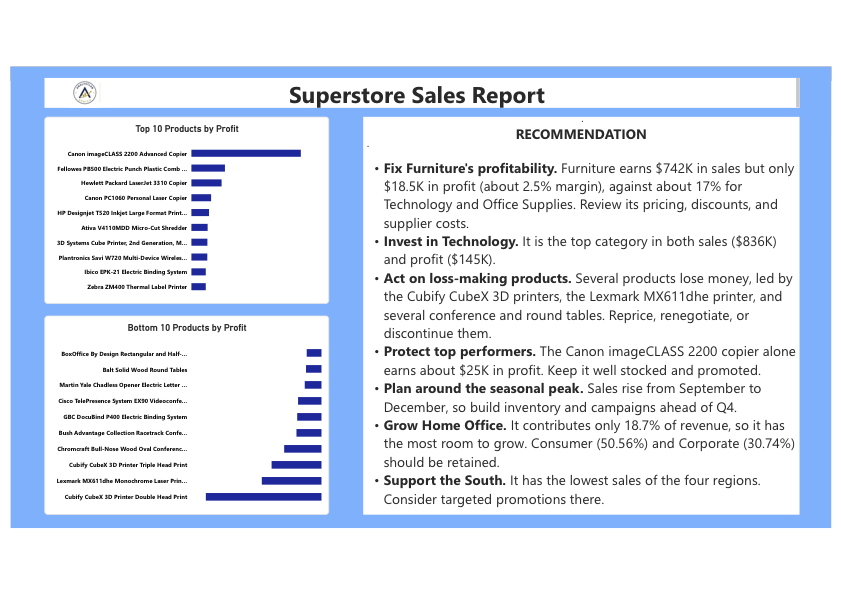

The page's visual inventory and layout, read from the dashboard file:
{"tool":"powerbi","page":{"name":"Insights & Recommendations","canvas":[1920,1080],"ordinal":1},"visuals":[{"type":"textbox","box":[824.5,117.8,1020.2,929.7],"z":0},{"type":"clusteredBarChart","title":"Top 10 Products by Profit","fields":{"Category":["Sample - Superstore.Product Name"],"Y":["Sum(Sample - Superstore.Profit)"]},"box":[79.9,117.8,664.7,437.5],"z":1000},{"type":"clusteredBarChart","title":"Bottom 10 Products by Profit","fields":{"Category":["Sample - Superstore.Product Name"],"Y":["Sum(Sample - Superstore.Profit)"]},"box":[79.9,582.6,664.7,464.9],"z":2000},{"type":"textbox","box":[79.9,27.3,1764.8,69.4],"z":2001},{"type":"image","box":[98.9,27.3,151.4,69.4],"z":2002}]}

Visuals, with their boxes on the page's 1920x1080 design canvas (x1, y1, x2, y2). These are canvas units, not pixel positions in the 841x595 screenshot, which may show the page scaled, cropped or inside an application window:
textbox: BBox(824, 118, 1845, 1048)
"Top 10 Products by Profit" clusteredBarChart: BBox(80, 118, 745, 555)
"Bottom 10 Products by Profit" clusteredBarChart: BBox(80, 583, 745, 1048)
textbox: BBox(80, 27, 1845, 97)
image: BBox(99, 27, 250, 97)
